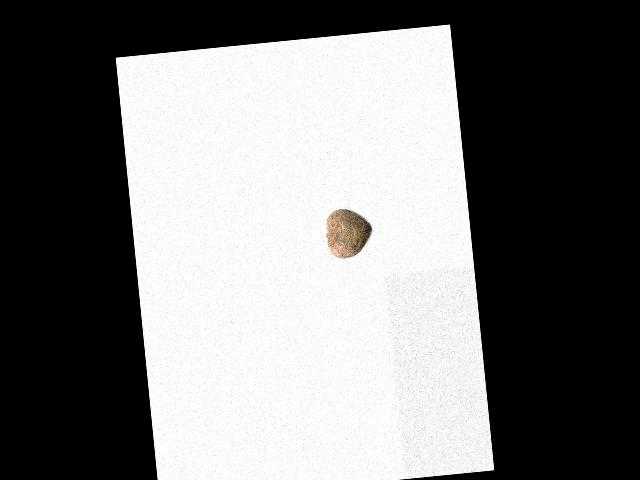beet: (324, 206, 374, 260)
